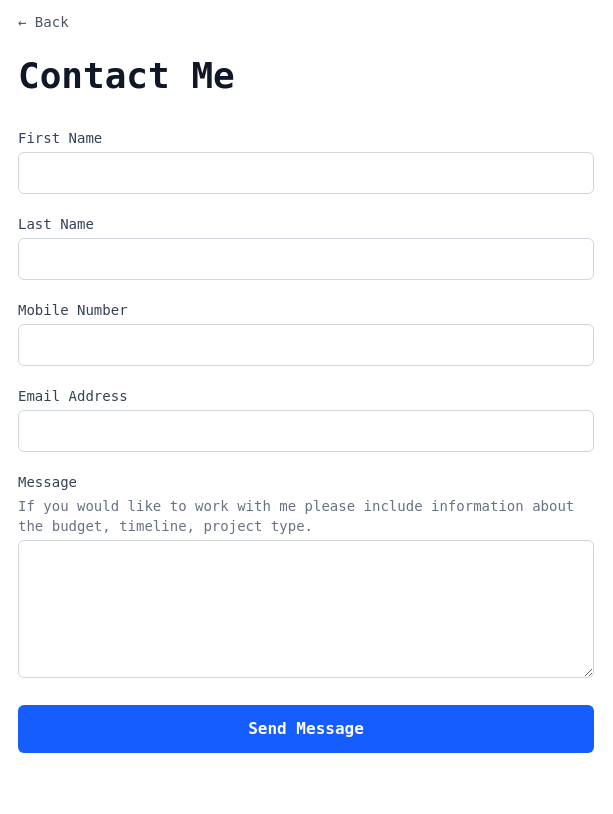
Scenario: ContactForm (en-GB, default locale) › client-side validation on submit › shows all five localized required-field error messages from enGB dict when the empty form is submitted
This screenshot has width=613, height=814.
Click the button "Send Message".
click(306, 729)  # box [18,705,594,753]
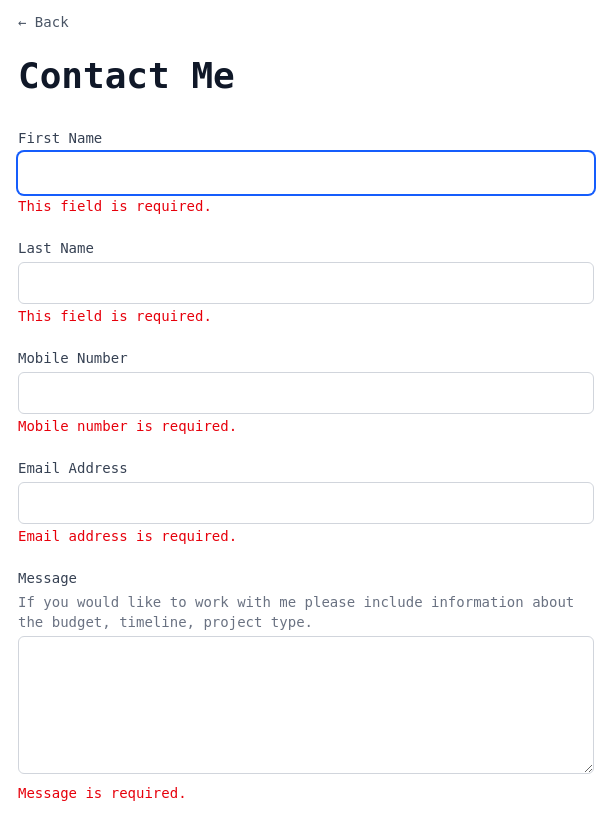
Check: the text "This field is required." is shown 2 times, box [18,198,212,214]; [18,308,212,324]
Check: the text "Mobile number is required." is shown, box [18,418,237,434]
Check: the text "Email address is required." is shown, box [18,528,237,544]
